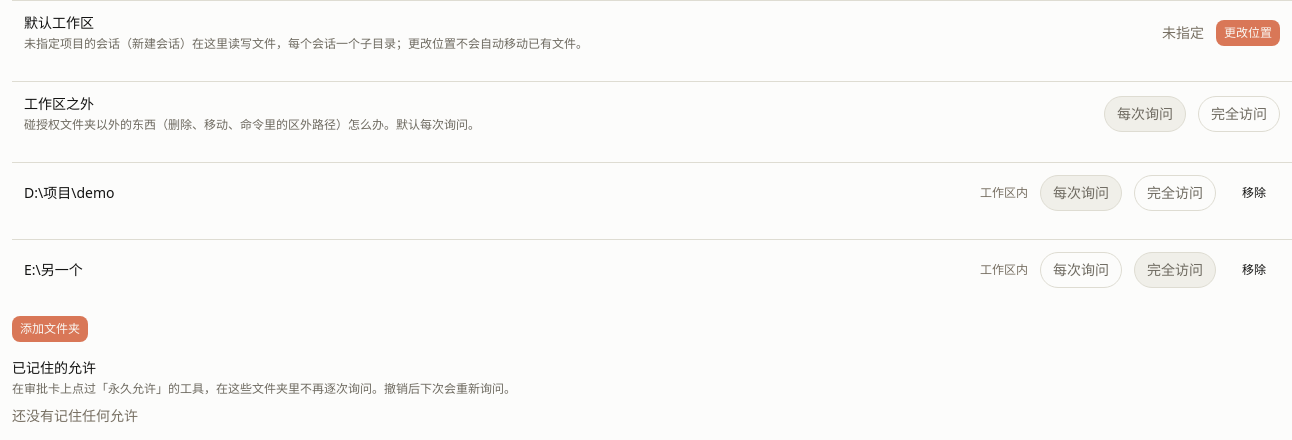
Test case: 工作区组 · 移除 › 点「移除」→ workspace:remove(path)，那一行消失、其余不动
Click the button with test id "workspace-0-remove": (1254, 193) 1228,180 -> 1280,206
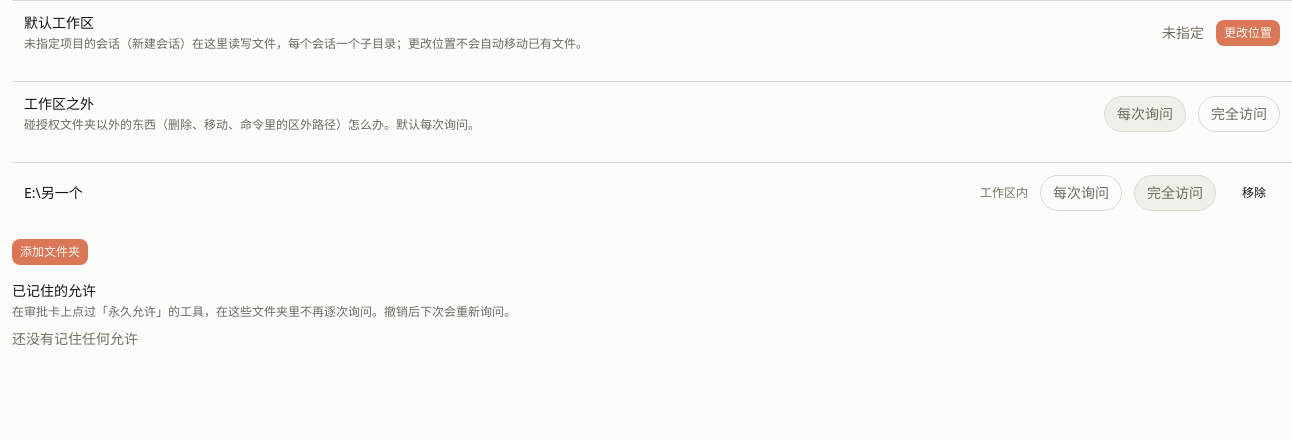
Expected: the element with test id "workspace-0" shows "E:\\另一个", 24,183 -> 83,202
Expected: the button "D:\\项目\\demo" is gone
